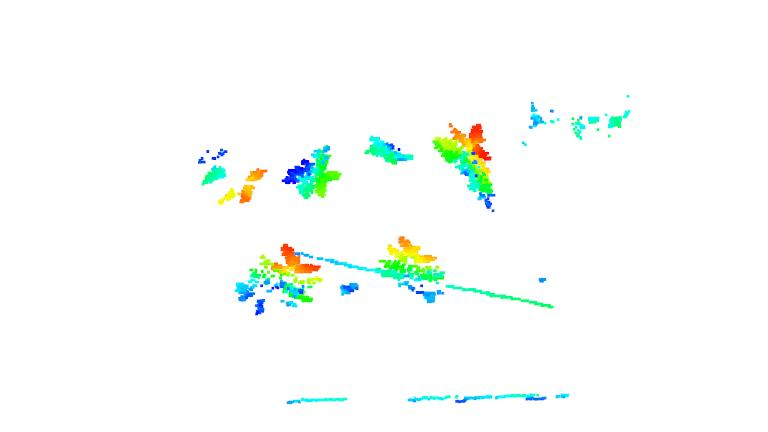chickpea: (236, 239, 323, 316), (437, 123, 502, 215), (371, 235, 452, 306), (201, 144, 264, 209), (284, 148, 346, 197), (366, 133, 415, 170)
